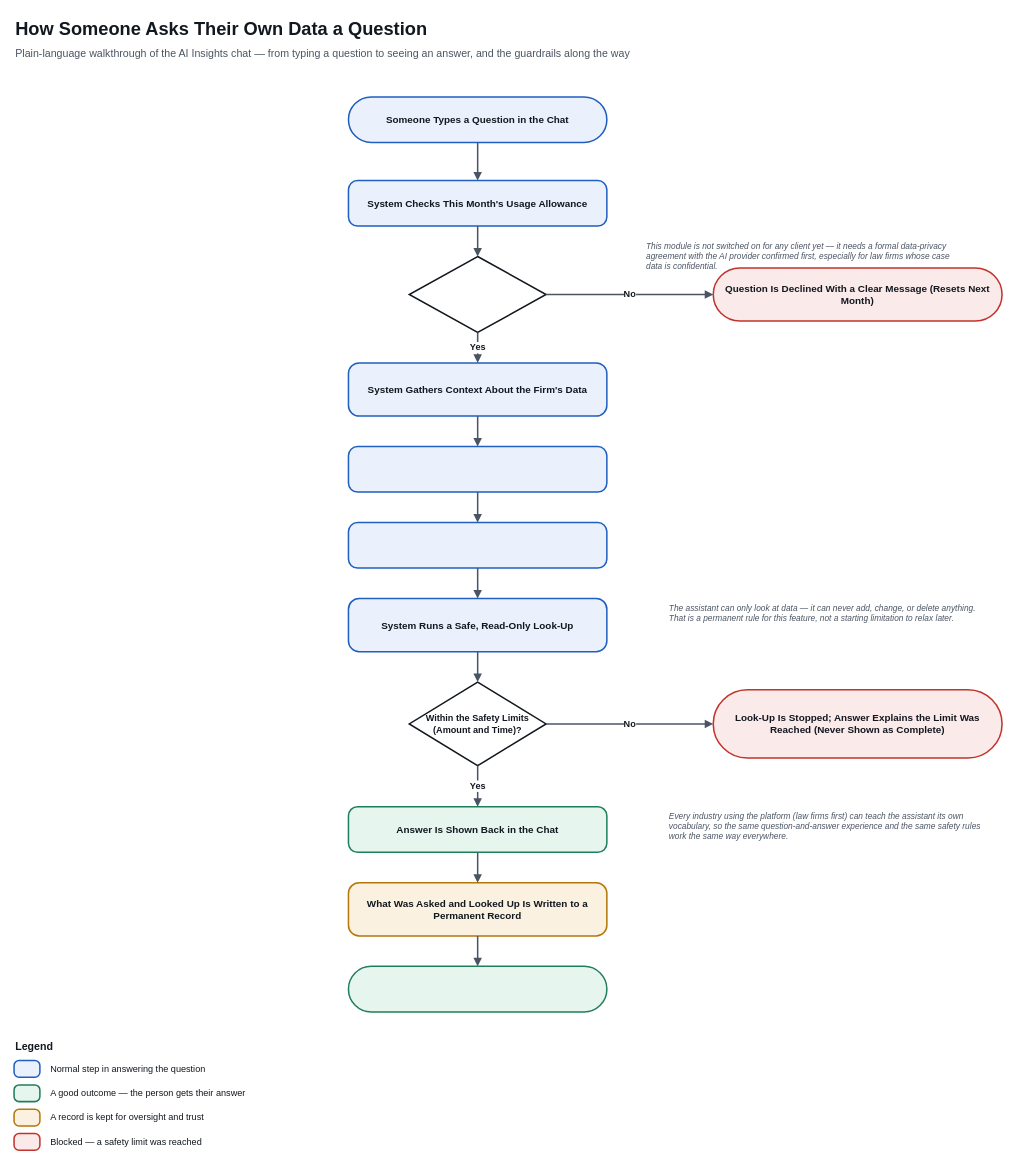
Some shapes in this 1015 by 1165 pixel diagram are drawn without their labels. The centre of each missing label's shape, as x and y in pixels:
Assistant Decides What to Look Up: the point at 477,544
Conversation Is Saved So They Can Pick It Up Later: the point at 477,988
Question Is Sent to the AI Assistant: the point at 477,468
Within the Allowance?: the point at 477,294
